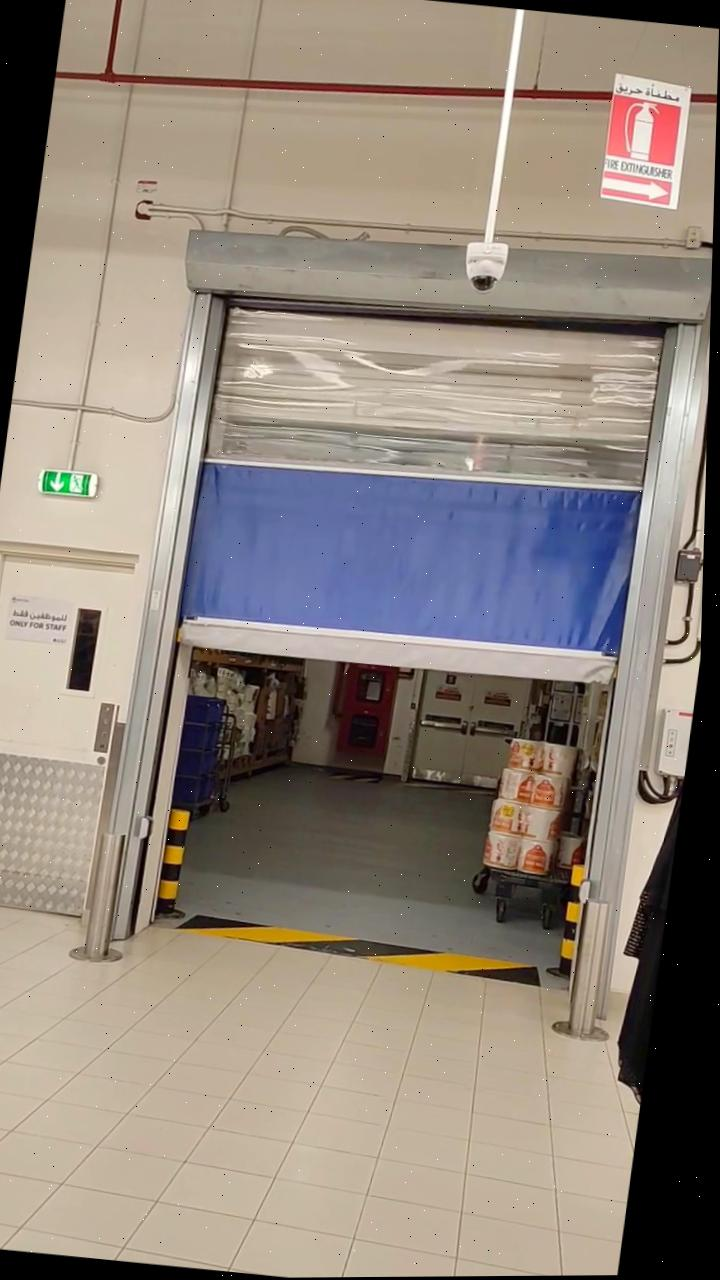Strip: (179, 908, 549, 992)
